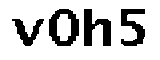0: (47, 6, 79, 49)
5: (115, 5, 146, 49)
h: (82, 6, 112, 52)
v: (10, 14, 44, 47)
